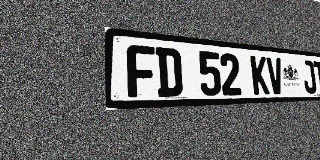2: (219, 53, 241, 95)
5: (198, 51, 222, 96)
D: (155, 47, 183, 97)
F: (126, 44, 157, 98)
J: (301, 60, 317, 93)
K: (250, 55, 270, 95)
T: (313, 61, 320, 93)
V: (266, 57, 284, 94)
